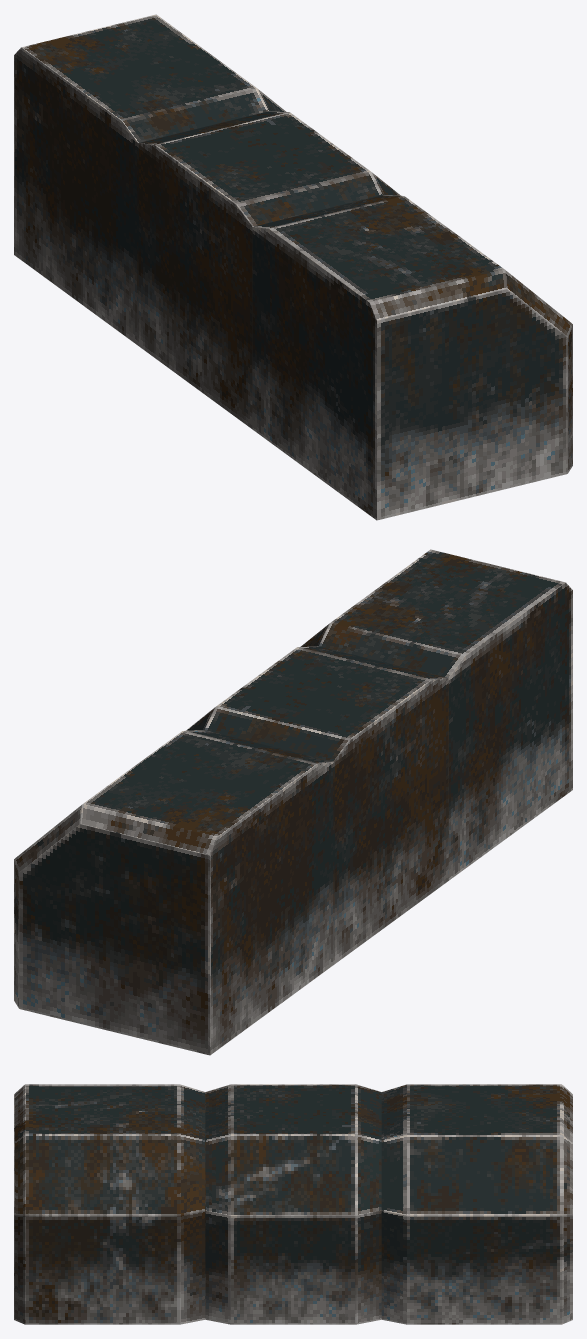
Rendered from light.gltf.
The picture shows the model from 3 angles, top to bottom: view 1: azimuth 30°, elevation 25°; view 2: azimuth 150°, elevation 25°; view 3: azimuth 270°, elevation 25°; orthographic projection. The views are drawn at different scales.
Parts seen in each view (by area): view 1: Cube.001; view 2: Cube.001; view 3: Cube.001.
Boxes of the visible parts, bbox=[...] form: Cube.001: bbox=[14, 14, 572, 520]; Cube.001: bbox=[14, 549, 572, 1055]; Cube.001: bbox=[14, 1084, 572, 1324].
Bounding box in the file's own units: 2 × 2 × 6.18.
Materials: 1 (1 with a texture image).
